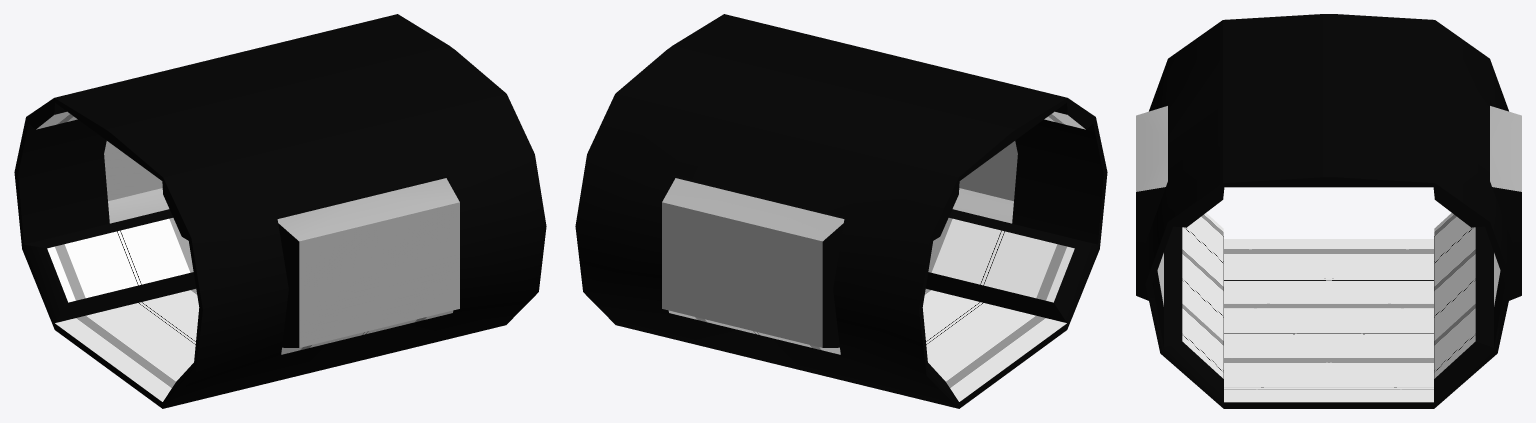
Rendered from Corridore_01.fbx.
3 renders of one model, left to right at view 1: azimuth 30°, elevation 25°; view 2: azimuth 150°, elevation 25°; view 3: azimuth 270°, elevation 25°, orthographic. The views are drawn at different scales.
Parts seen in each view (by area): view 1: Corridore_01; view 2: Corridore_01; view 3: Corridore_01.
Part boxes in pixels (left/top/right/bottom): Corridore_01: left=14, top=14, right=546, bottom=408; Corridore_01: left=575, top=14, right=1107, bottom=408; Corridore_01: left=1136, top=14, right=1521, bottom=408.
Size of the model in its own units: 547 by 362 by 546.
3 materials, 1 textured.
